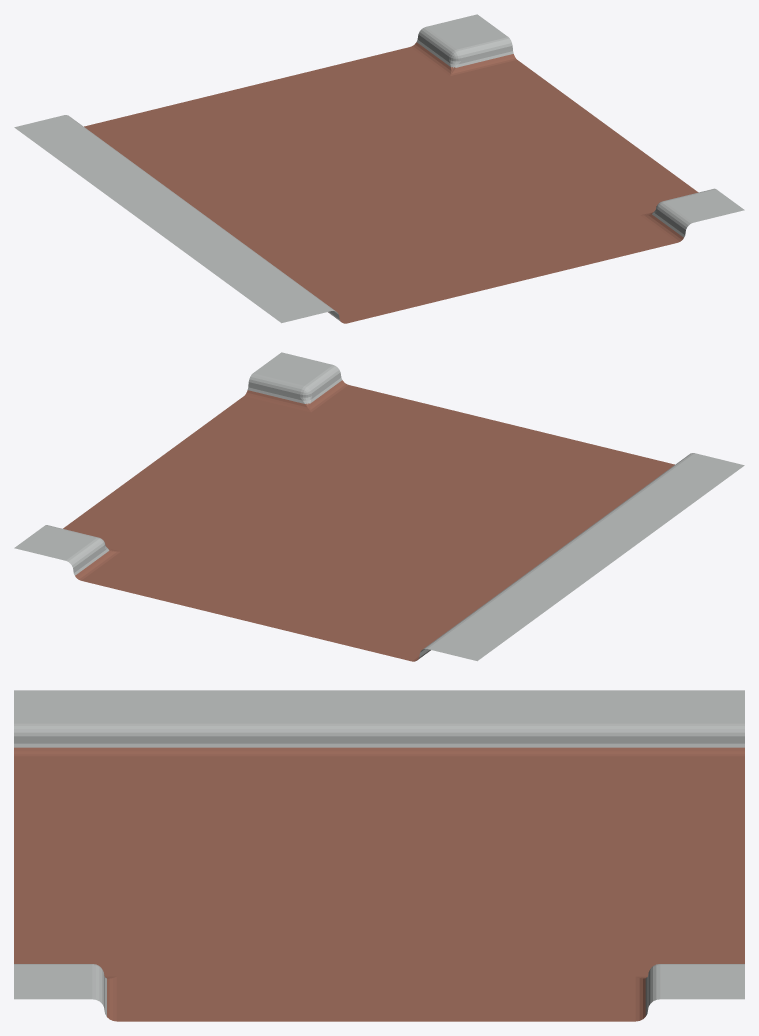
File: Road_Tcross_V1.fbx
The picture shows the model from 3 angles, top to bottom: view 1: azimuth 30°, elevation 25°; view 2: azimuth 150°, elevation 25°; view 3: azimuth 270°, elevation 25°; orthographic projection. The views are drawn at different scales.
Visible parts, largest first — view 1: Plan.003; view 2: Plan.003; view 3: Plan.003.
Boxes of the visible parts, box(x1,y1,x2,y2) form: Plan.003: box(14, 14, 744, 323); Plan.003: box(14, 352, 744, 661); Plan.003: box(14, 690, 744, 1021).
Bounding box in the file's own units: 800 × 26.78 × 800.
